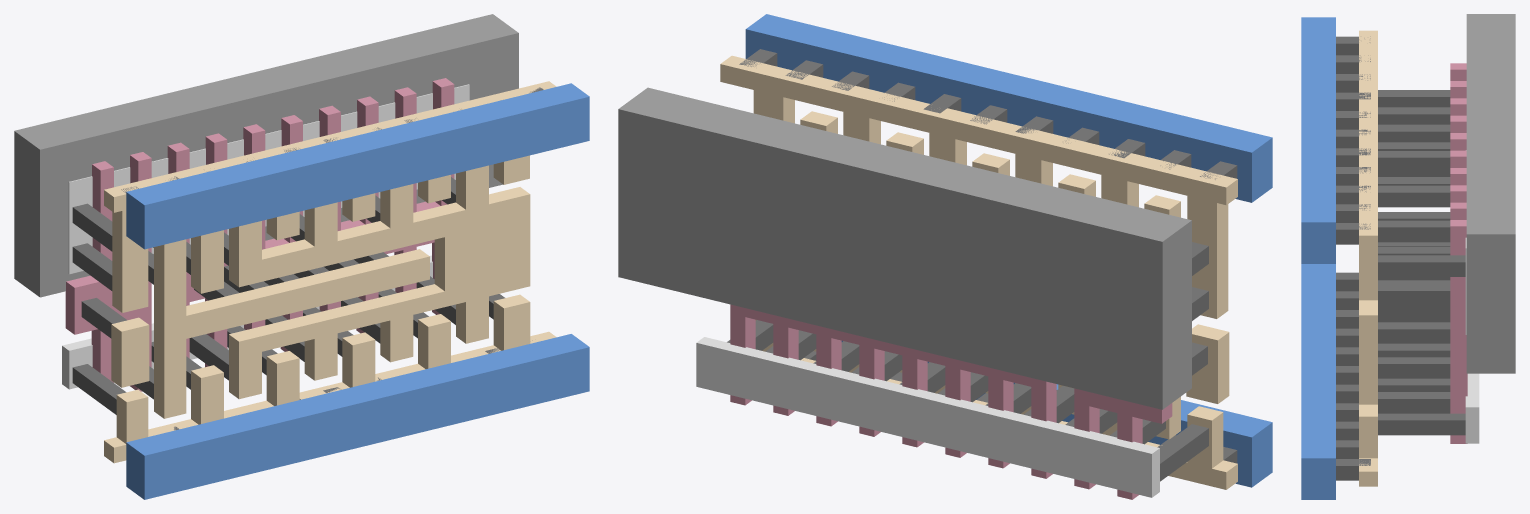
The model's file is sky130_fd_sc_hd__clkbuf_8.gds.gltf.
3 views of the same model, side by side, from view 1: azimuth 30°, elevation 25°; view 2: azimuth 150°, elevation 25°; view 3: azimuth 270°, elevation 25° (orthographic). The views are drawn at different scales.
Visible parts, largest first — view 1: sky130_fd_sc_hd__clkbuf_8_li1, sky130_fd_sc_hd__clkbuf_8_met1, sky130_fd_sc_hd__clkbuf_8_nwell, sky130_fd_sc_hd__clkbuf_8_poly, sky130_fd_sc_hd__clkbuf_8_licon, sky130_fd_sc_hd__clkbuf_8_diff; view 2: sky130_fd_sc_hd__clkbuf_8_nwell, sky130_fd_sc_hd__clkbuf_8_li1, sky130_fd_sc_hd__clkbuf_8_met1, sky130_fd_sc_hd__clkbuf_8_diff, sky130_fd_sc_hd__clkbuf_8_poly, sky130_fd_sc_hd__clkbuf_8_licon, sky130_fd_sc_hd__clkbuf_8_mcon; view 3: sky130_fd_sc_hd__clkbuf_8_licon, sky130_fd_sc_hd__clkbuf_8_nwell, sky130_fd_sc_hd__clkbuf_8_met1, sky130_fd_sc_hd__clkbuf_8_mcon, sky130_fd_sc_hd__clkbuf_8_li1, sky130_fd_sc_hd__clkbuf_8_poly, sky130_fd_sc_hd__clkbuf_8_diff.
Part boxes in pixels (<box>): sky130_fd_sc_hd__clkbuf_8_li1: <box>104,81,556,463</box>; sky130_fd_sc_hd__clkbuf_8_met1: <box>126,83,589,499</box>; sky130_fd_sc_hd__clkbuf_8_nwell: <box>14,14,518,297</box>; sky130_fd_sc_hd__clkbuf_8_poly: <box>65,78,454,391</box>; sky130_fd_sc_hd__clkbuf_8_licon: <box>72,177,504,414</box>; sky130_fd_sc_hd__clkbuf_8_diff: <box>62,84,469,389</box>; sky130_fd_sc_hd__clkbuf_8_nwell: <box>618,87,1191,409</box>; sky130_fd_sc_hd__clkbuf_8_li1: <box>720,55,1237,489</box>; sky130_fd_sc_hd__clkbuf_8_met1: <box>745,14,1272,487</box>; sky130_fd_sc_hd__clkbuf_8_diff: <box>696,337,1159,497</box>; sky130_fd_sc_hd__clkbuf_8_poly: <box>730,304,1172,499</box>; sky130_fd_sc_hd__clkbuf_8_licon: <box>727,242,1208,481</box>; sky130_fd_sc_hd__clkbuf_8_mcon: <box>739,49,1237,463</box>; sky130_fd_sc_hd__clkbuf_8_licon: <box>1378,90,1465,435</box>; sky130_fd_sc_hd__clkbuf_8_nwell: <box>1466,14,1515,373</box>; sky130_fd_sc_hd__clkbuf_8_met1: <box>1301,17,1335,499</box>; sky130_fd_sc_hd__clkbuf_8_mcon: <box>1336,36,1370,480</box>; sky130_fd_sc_hd__clkbuf_8_li1: <box>1359,30,1377,486</box>; sky130_fd_sc_hd__clkbuf_8_poly: <box>1450,63,1467,443</box>; sky130_fd_sc_hd__clkbuf_8_diff: <box>1465,150,1479,443</box>.
Bounding box in the file's own units: 5.44 × 3.2 × 2.24.
